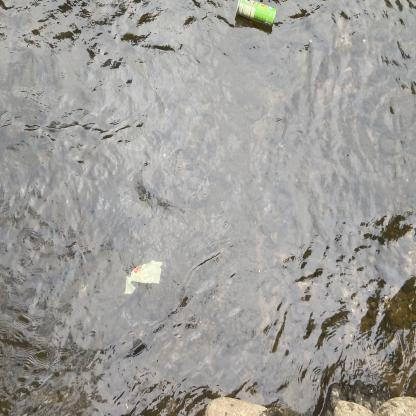trash: (118, 255, 166, 301), (232, 0, 282, 32)
